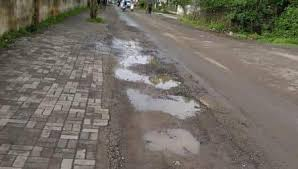pothole: (123, 87, 202, 120), (117, 51, 184, 87), (139, 126, 202, 156)
